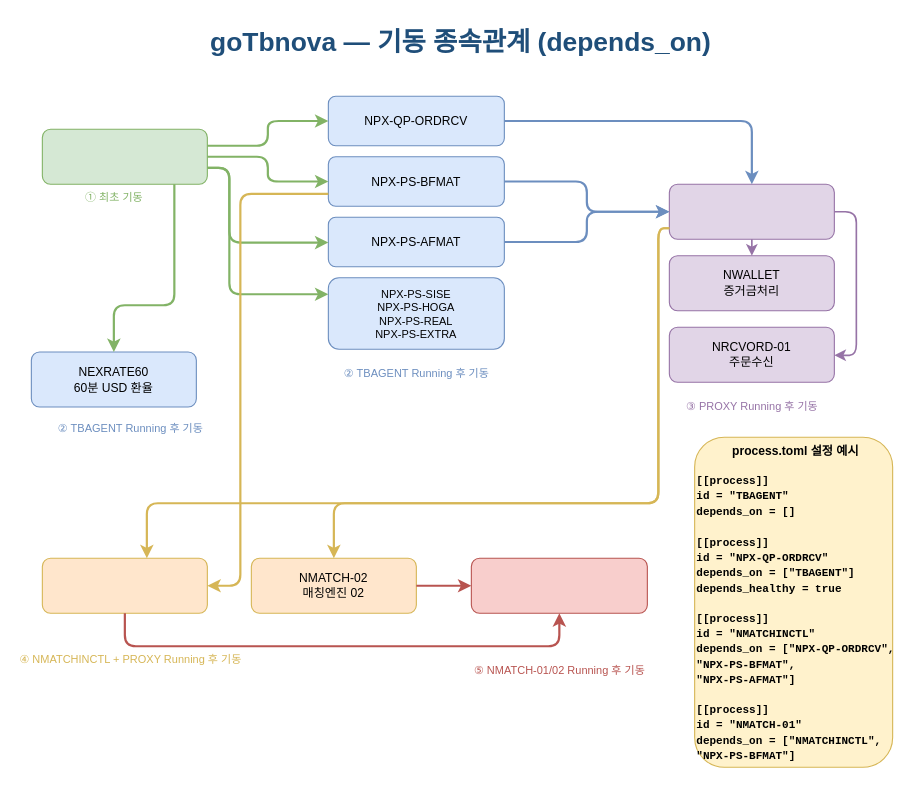
The diagram is 913 pixels wide and 787 high, and some of its shapes have lost their labels. The centre of each missing label's shape, as x and y in pixels:
"NAFTMAT-0 ~ 9 체결정리" belongs at point (558, 585).
"NMATCH-01 매칭엔진 01" belongs at point (124, 585).
"NMATCHINCTL 주문상태관리" belongs at point (751, 211).
"TBAGENT (Default)" belongs at point (124, 156).
